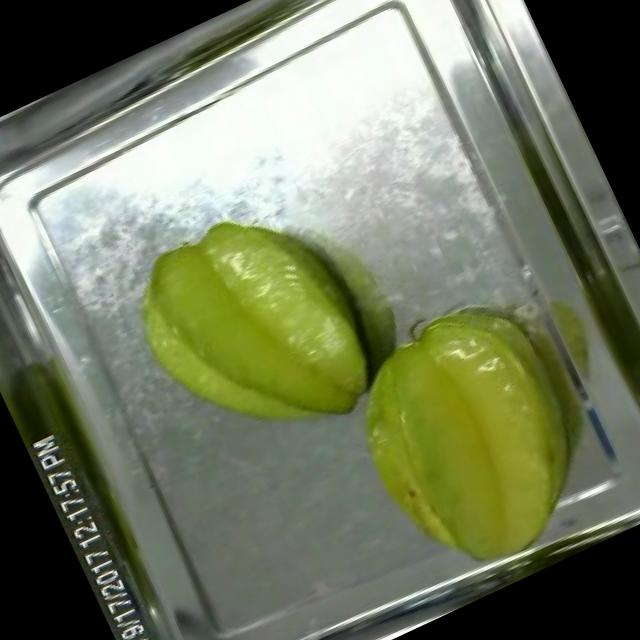fruit: (316, 268, 635, 604), (100, 172, 408, 490)
